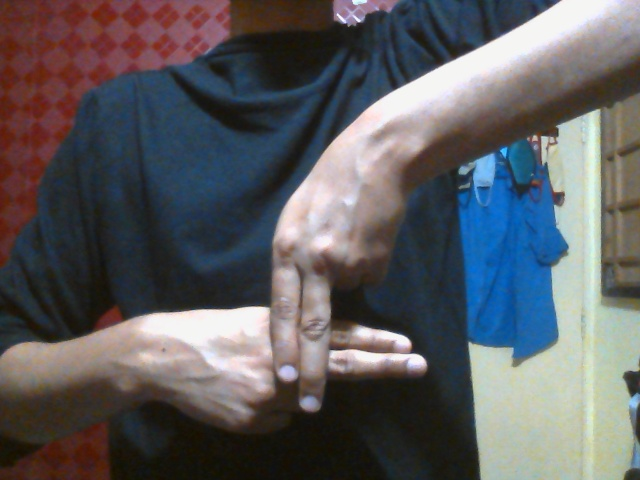F: (152, 154, 429, 437)
